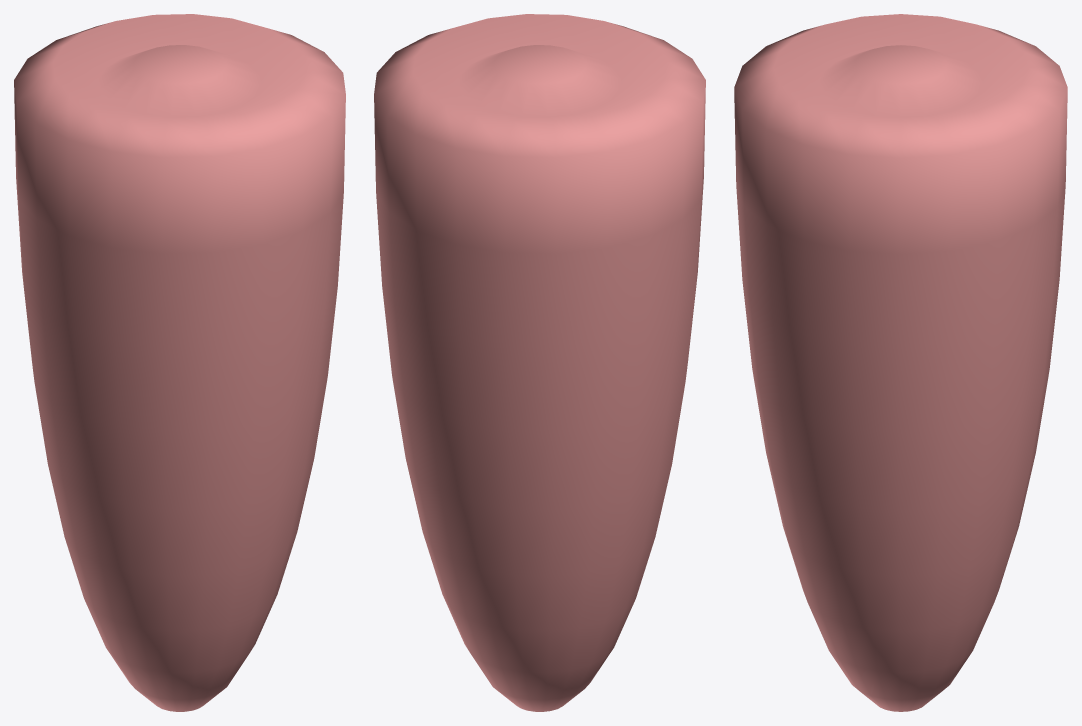
Rendered from Smoothie.fbx.
3 renders of one model, left to right at view 1: azimuth 30°, elevation 25°; view 2: azimuth 150°, elevation 25°; view 3: azimuth 270°, elevation 25°, orthographic.
Visible parts, largest first — view 1: polySurface35; view 2: polySurface35; view 3: polySurface35.
Boxes of the visible parts, left/top/right/bottom form: polySurface35: left=14, top=14, right=345, bottom=711; polySurface35: left=374, top=14, right=705, bottom=711; polySurface35: left=734, top=14, right=1067, bottom=711.
Bounding box in the file's own units: 1.81 × 3.85 × 1.81.
